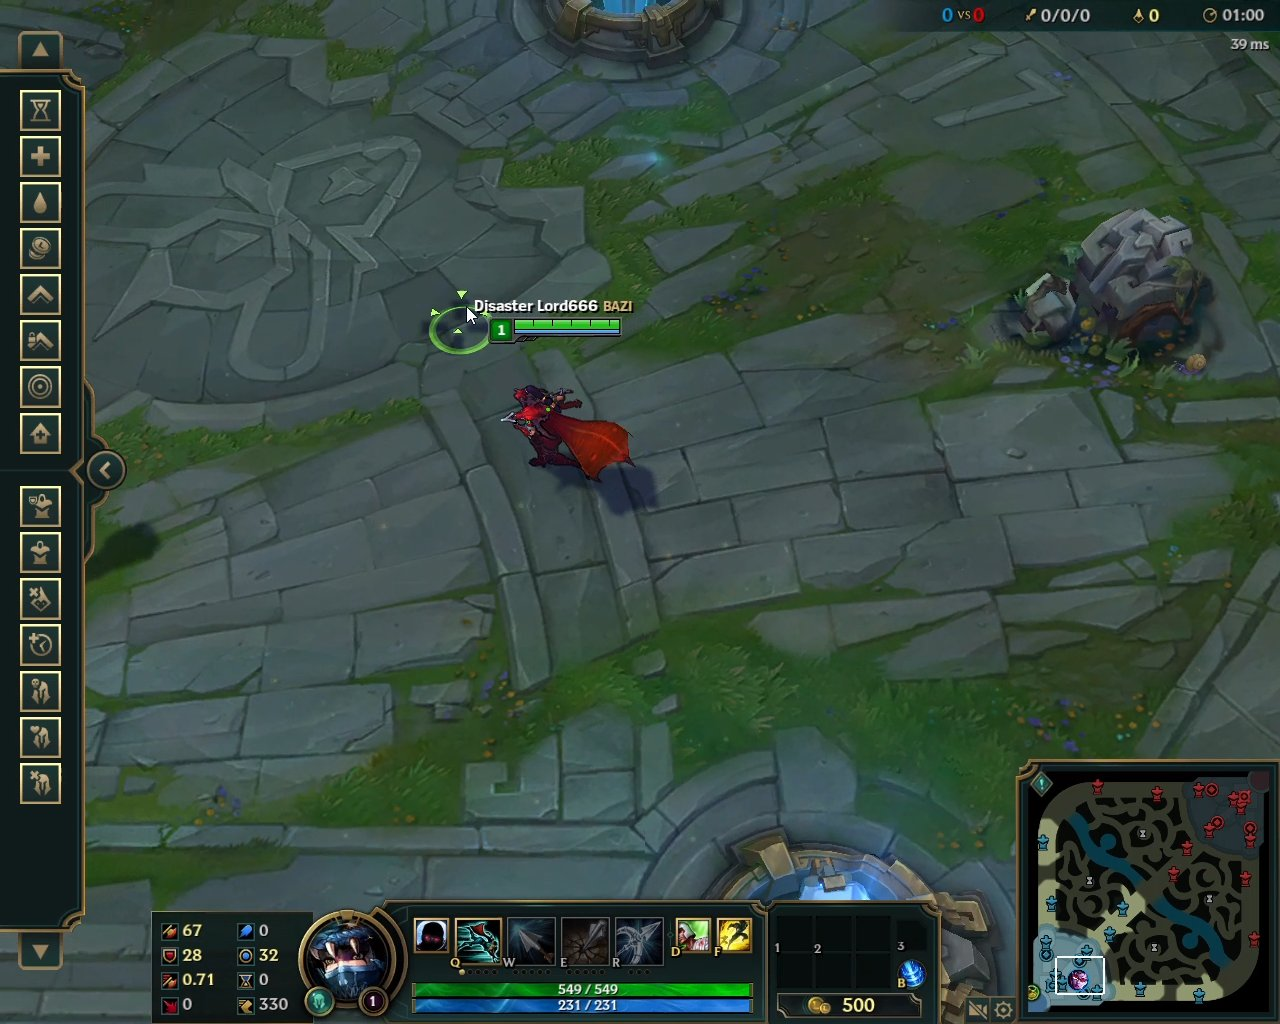Vayne: (493, 379, 644, 497)
